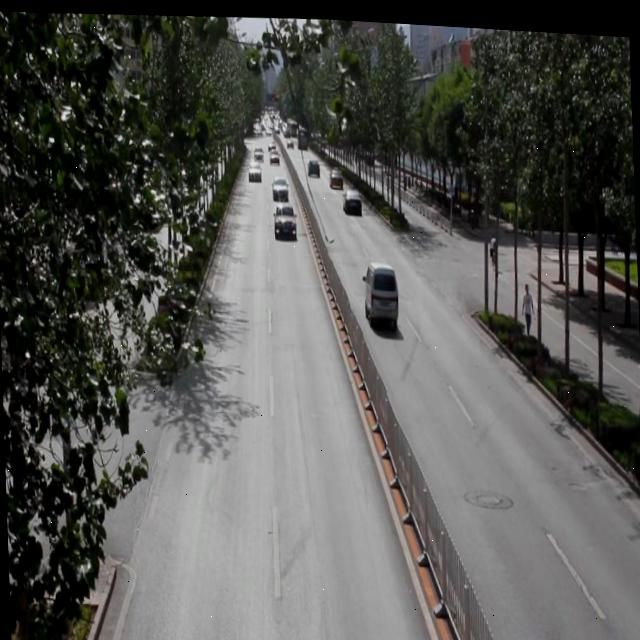car: (272, 198, 296, 236), (341, 182, 361, 211), (270, 172, 288, 199), (246, 155, 262, 179), (328, 162, 342, 187), (306, 152, 319, 172)
truck: (361, 253, 399, 320)
